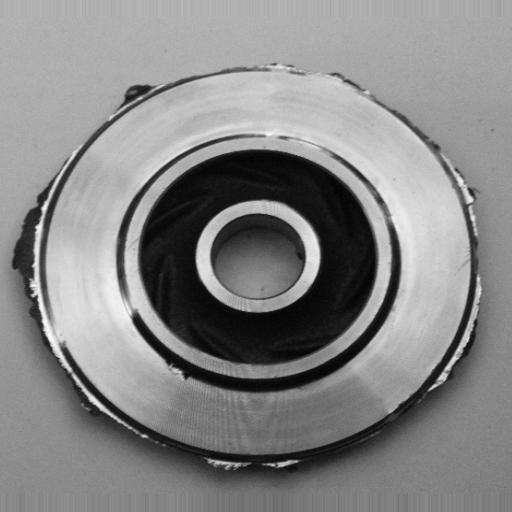casting_with_burr: (13, 56, 484, 479)
crack: (159, 349, 205, 385)
scratch: (254, 120, 347, 154), (112, 255, 143, 325)
